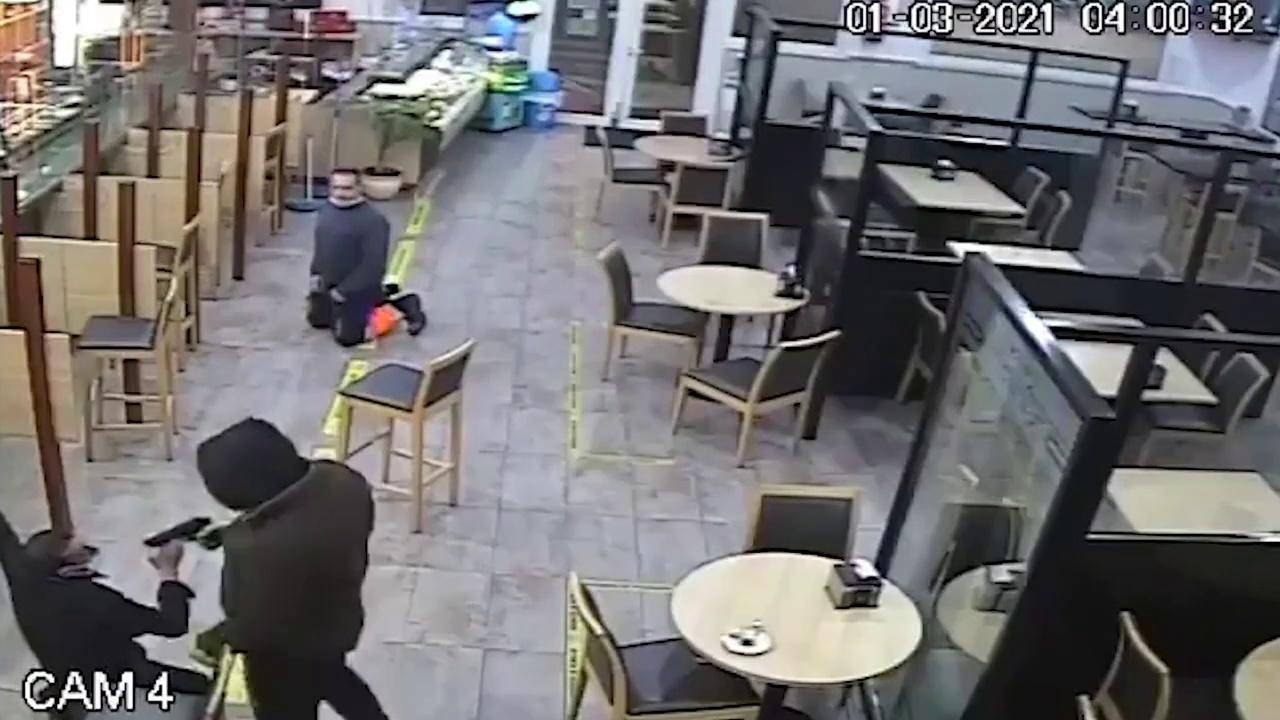Guns perspective: (130, 507, 228, 569)
